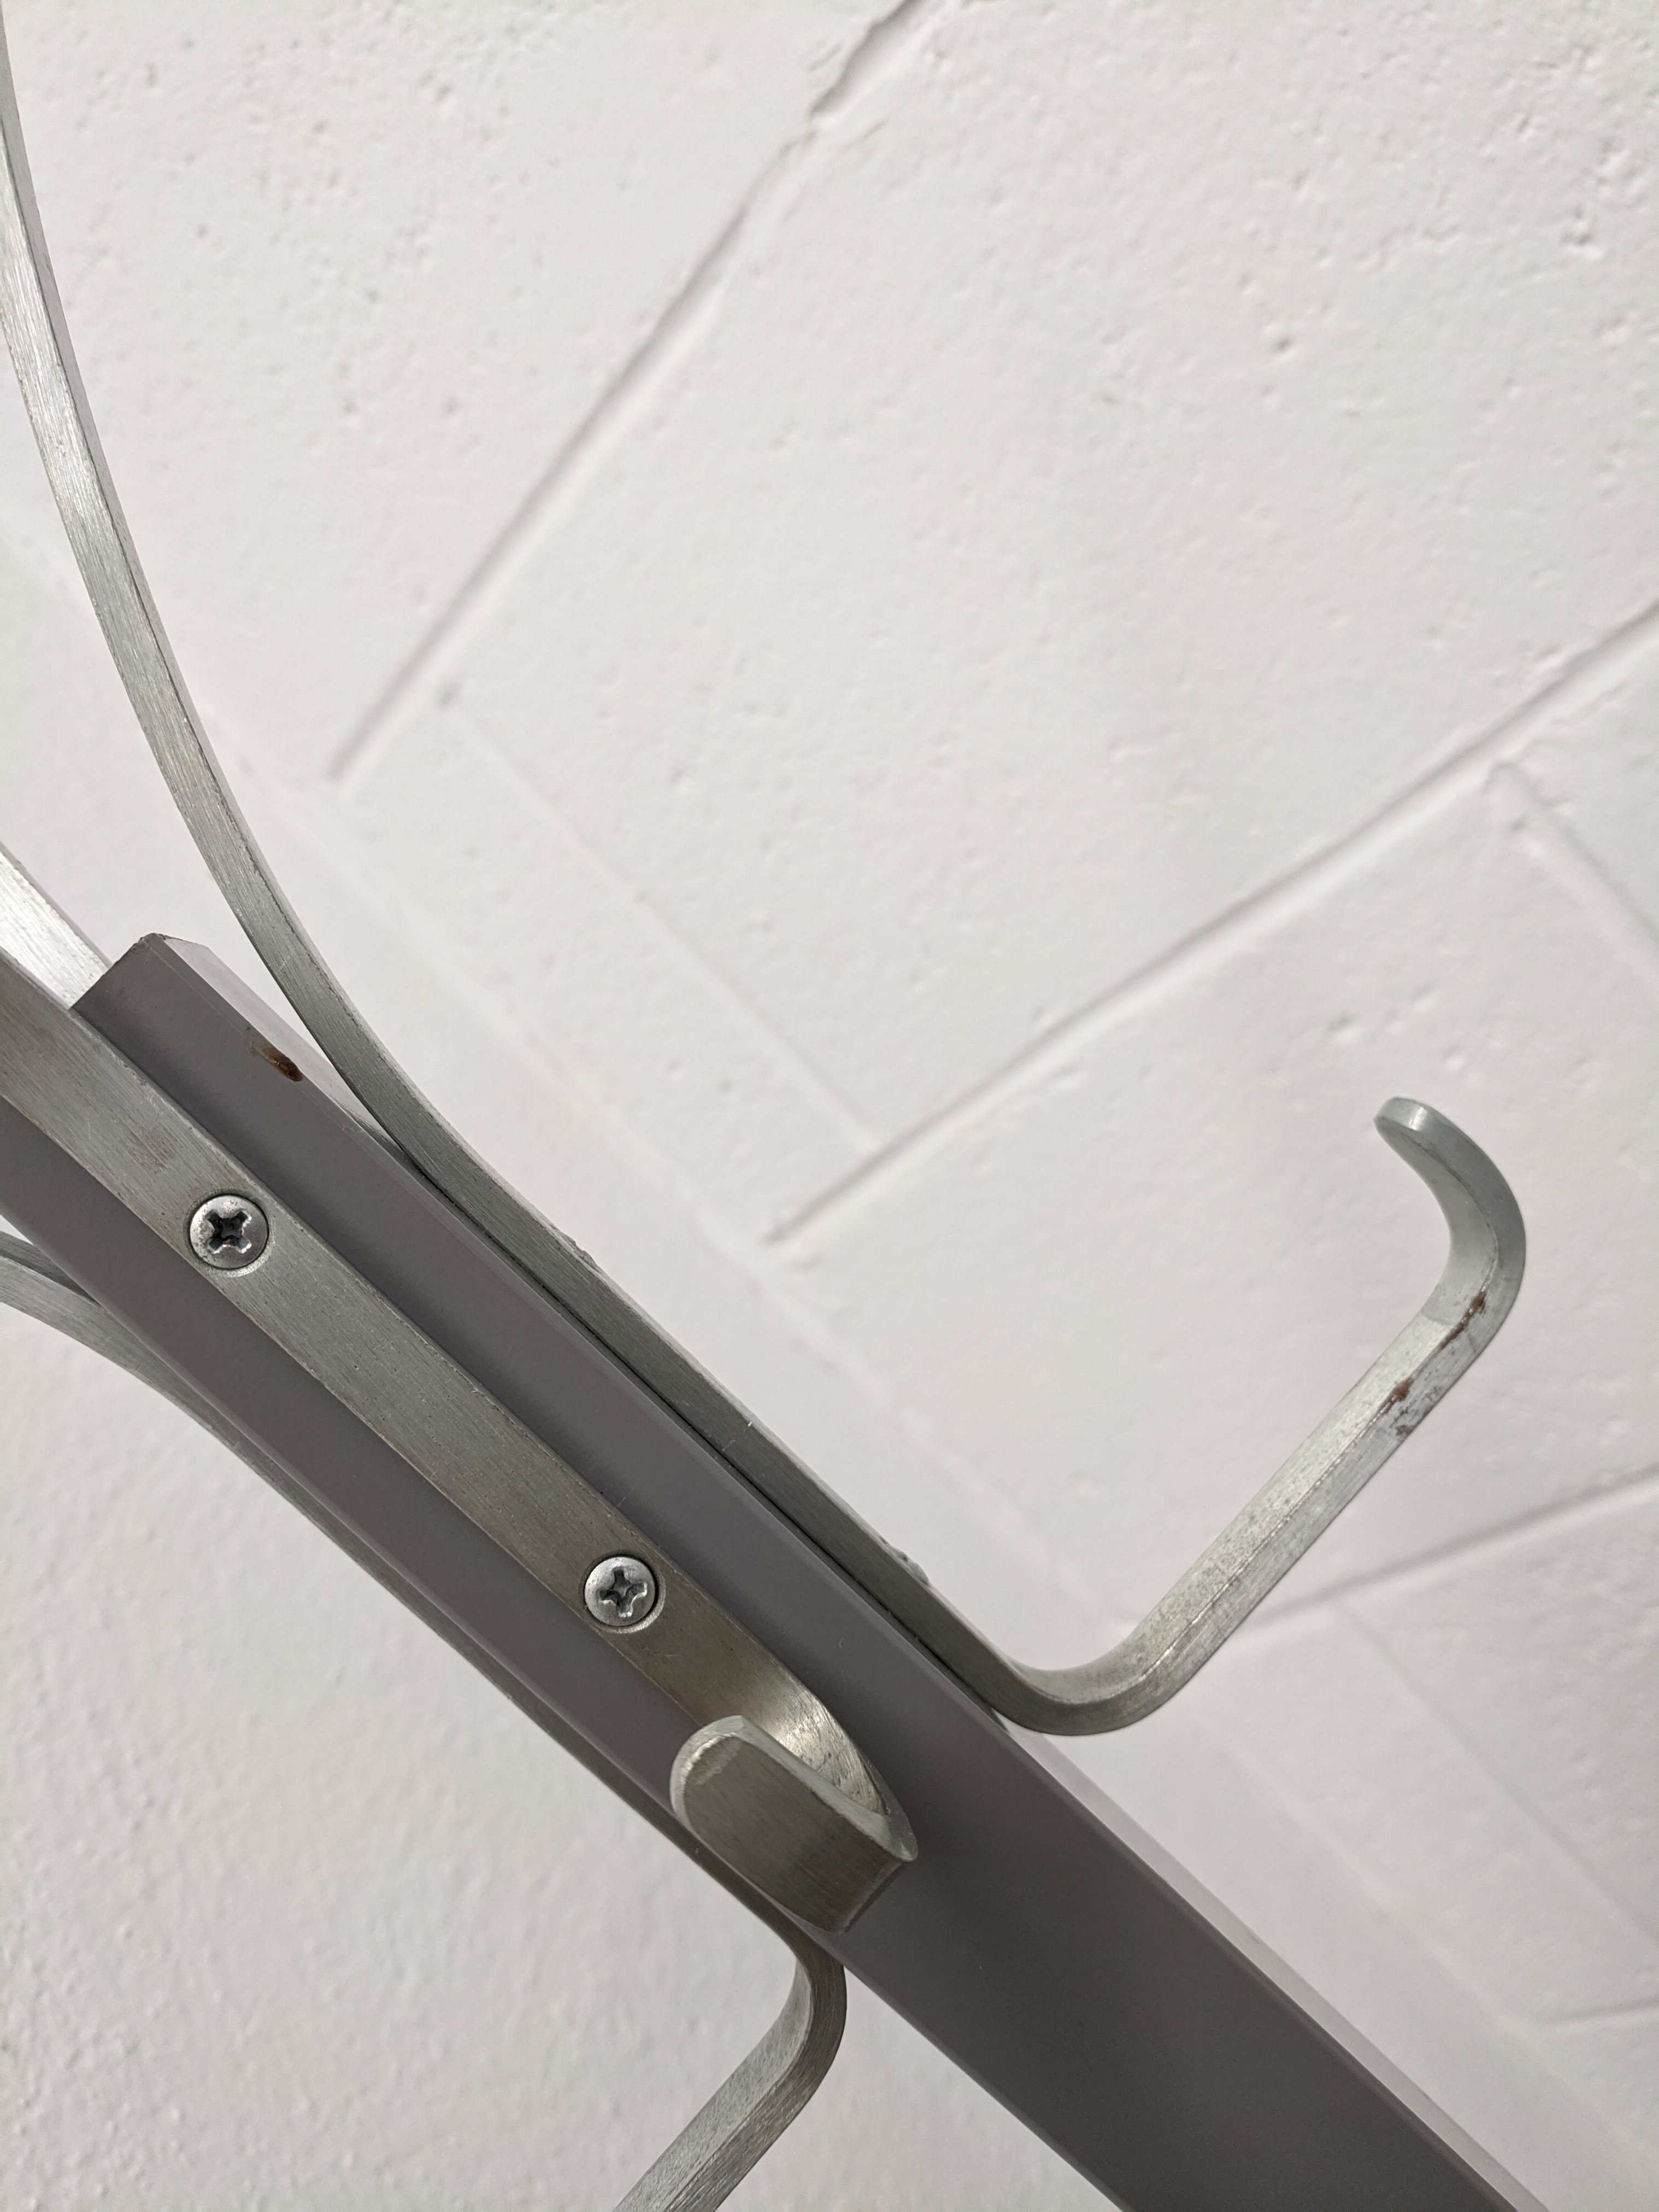cross_recessed_screw: (566, 1534, 669, 1637), (167, 1183, 270, 1280)
